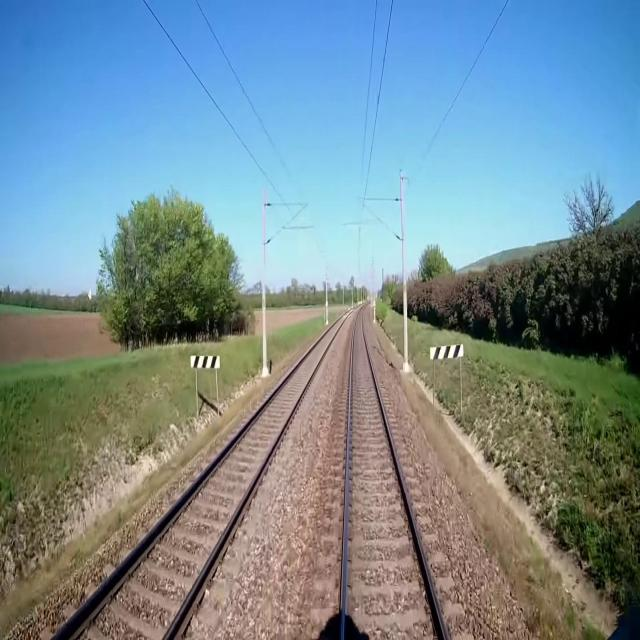rail-track: (59, 316, 345, 639), (345, 308, 444, 639)
